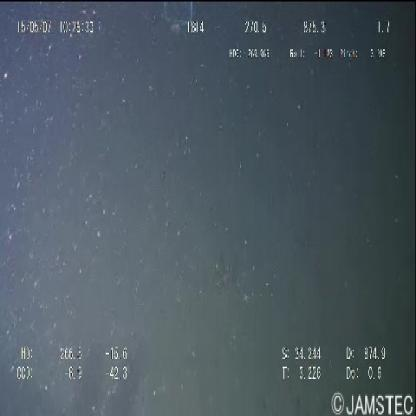Rác: (160, 2, 197, 38)
